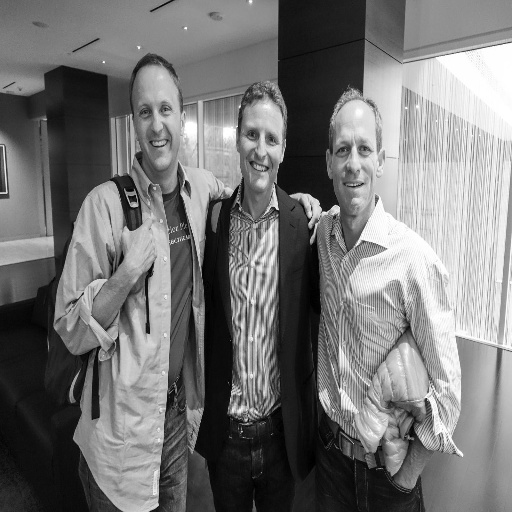hand: (121, 215, 158, 277), (306, 193, 323, 240), (393, 470, 416, 489)
